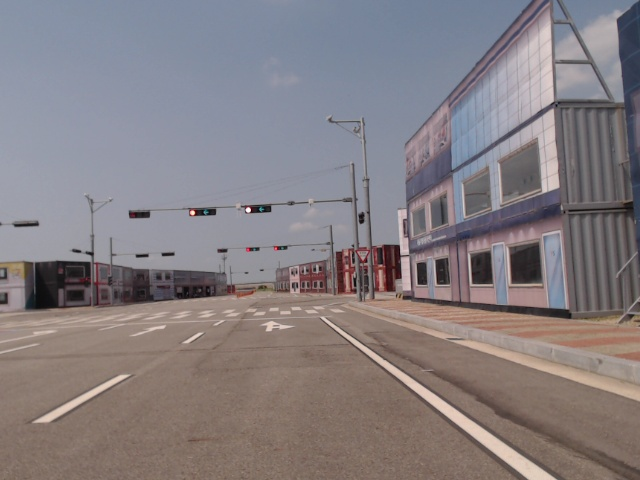left_green_4: (245, 207, 271, 213), (189, 210, 216, 215)
